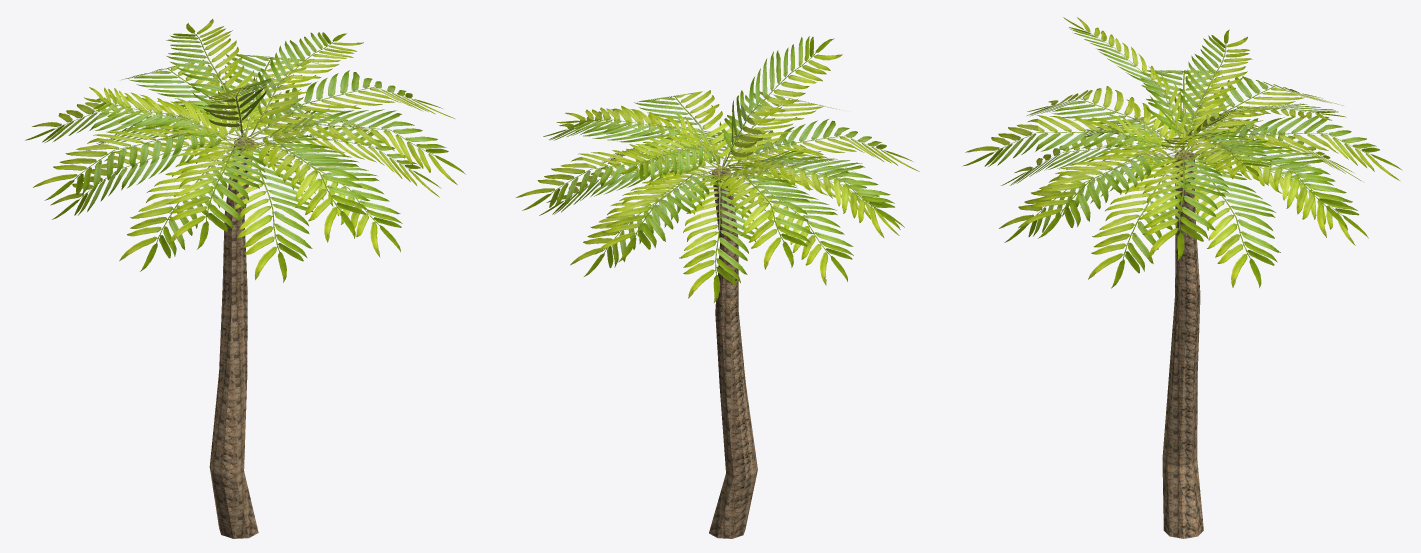
Rendered from low-poly-palm-tree.obj.
3 views of the same model, side by side, from view 1: azimuth 30°, elevation 25°; view 2: azimuth 150°, elevation 25°; view 3: azimuth 270°, elevation 25° (orthographic). The views are drawn at different scales.
Parts seen in each view (by area): view 1: palm_leaf_full_01-small.png, Cylinder; view 2: palm_leaf_full_01-small.png, Cylinder; view 3: palm_leaf_full_01-small.png, Cylinder.
Part boxes in pixels (x1,y1,x2,y2): palm_leaf_full_01-small.png: [25, 19, 465, 282]; Cylinder: [209, 138, 258, 538]; palm_leaf_full_01-small.png: [516, 36, 919, 302]; Cylinder: [709, 168, 757, 538]; palm_leaf_full_01-small.png: [962, 17, 1402, 288]; Cylinder: [1162, 152, 1203, 538].
Bounding box in the file's own units: 31.39 × 38.61 × 31.31.
